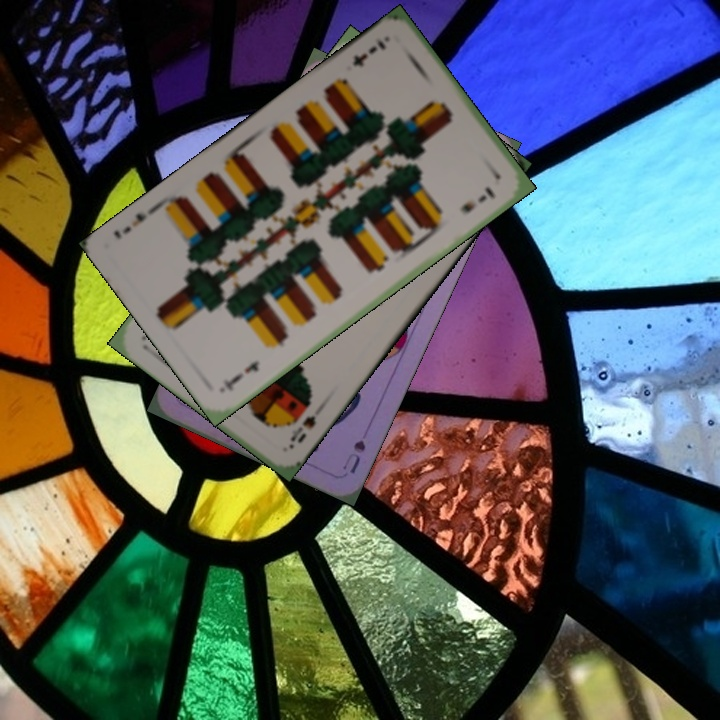E7: (219, 356, 262, 394), (348, 35, 389, 70)
SO: (286, 411, 319, 446)
SU: (338, 436, 369, 476)
